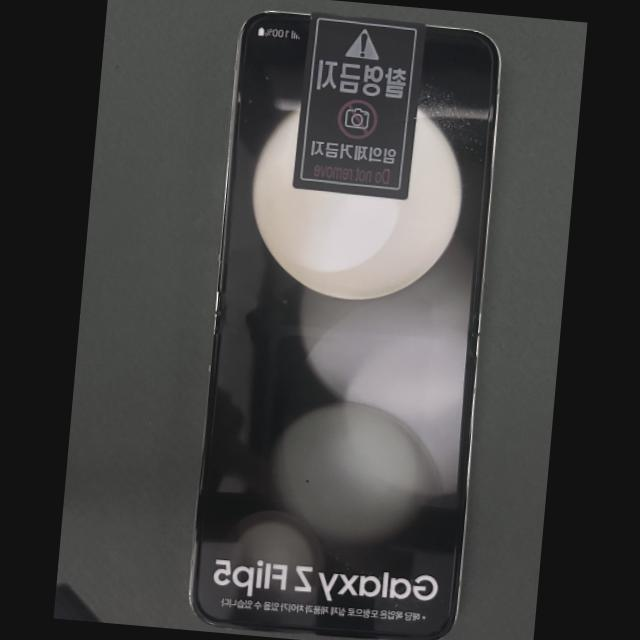phone: (190, 13, 498, 639)
sticker: (292, 15, 423, 198)
